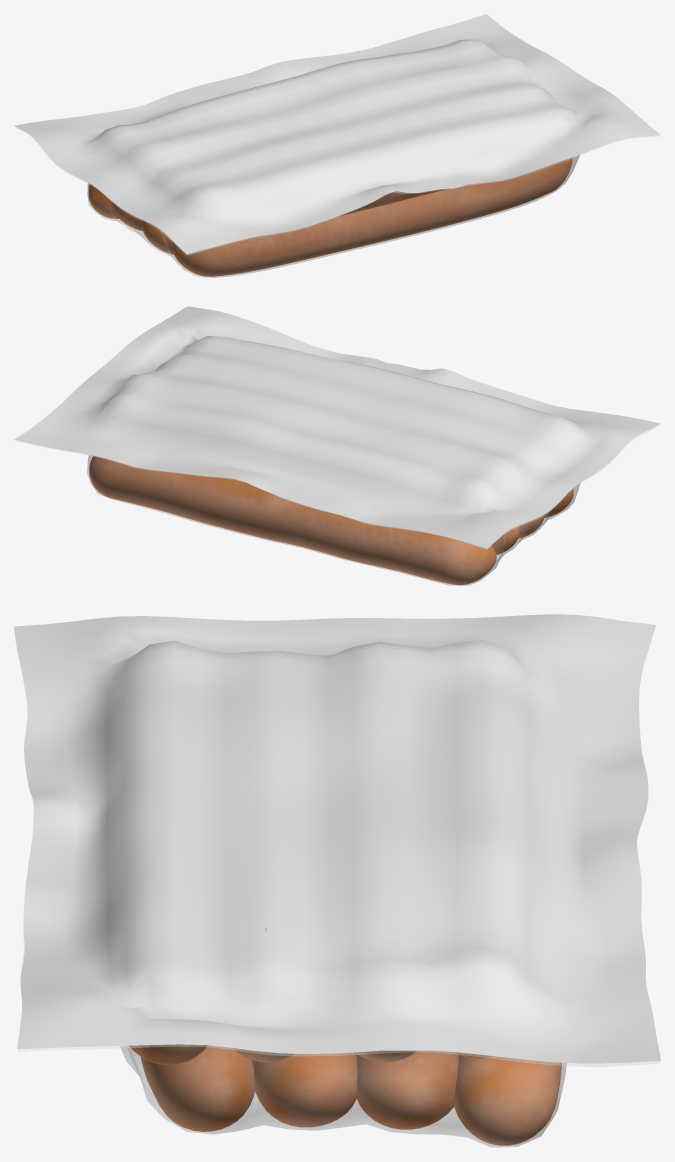
Rendered from PackOfSausages.fbx.
3 renders of one model, top to bottom at view 1: azimuth 30°, elevation 25°; view 2: azimuth 150°, elevation 25°; view 3: azimuth 270°, elevation 25°, orthographic. The views are drawn at different scales.
Parts seen in each view (by area): view 1: Label_8, Pack_9, Sausage_5_4, Sausage_1_0, Sausage_6_5, Sausage_8_7; view 2: Label_8, Pack_9, Sausage_8_7, Sausage_7_6; view 3: Label_8, Pack_9, Sausage_8_7, Sausage_5_4, Sausage_7_6, Sausage_6_5, Sausage_1_0.
Part boxes in pixels (left/top/right/bottom): Label_8: left=14, top=14, right=660, bottom=254; Pack_9: left=15, top=127, right=659, bottom=277; Sausage_5_4: left=172, top=158, right=572, bottom=276; Sausage_1_0: left=248, top=189, right=446, bottom=238; Sausage_6_5: left=142, top=220, right=173, bottom=254; Sausage_8_7: left=88, top=184, right=119, bottom=218; Label_8: left=14, top=306, right=660, bottom=548; Pack_9: left=15, top=363, right=659, bottom=585; Sausage_8_7: left=89, top=456, right=496, bottom=585; Sausage_7_6: left=492, top=525, right=520, bottom=554; Label_8: left=14, top=614, right=660, bottom=1063; Pack_9: left=18, top=802, right=660, bottom=1147; Sausage_8_7: left=454, top=1055, right=561, bottom=1145; Sausage_5_4: left=140, top=1045, right=254, bottom=1131; Sausage_7_6: left=356, top=1050, right=458, bottom=1129; Sausage_6_5: left=252, top=1053, right=357, bottom=1127; Sausage_1_0: left=129, top=1044, right=207, bottom=1065.
Size of the model in its own units: 16.85 by 3.54 by 10.54.
Materials: 3 (1 with a texture image).
